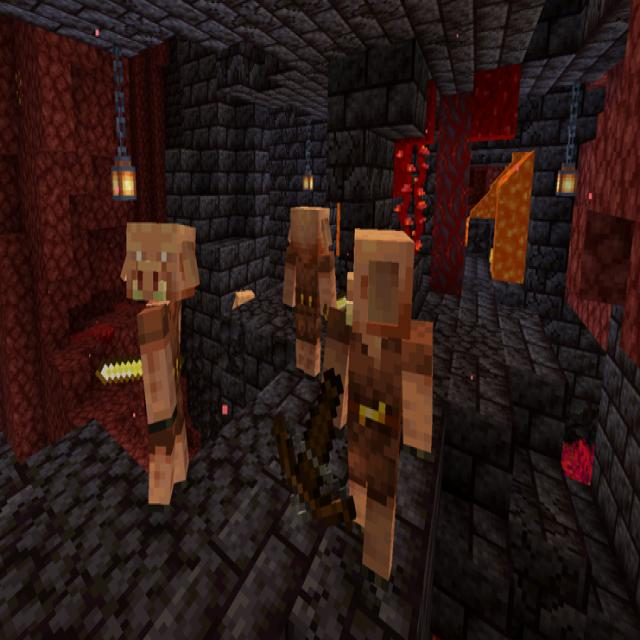Piglin: (274, 226, 438, 589), (92, 218, 202, 512), (282, 202, 340, 380)
